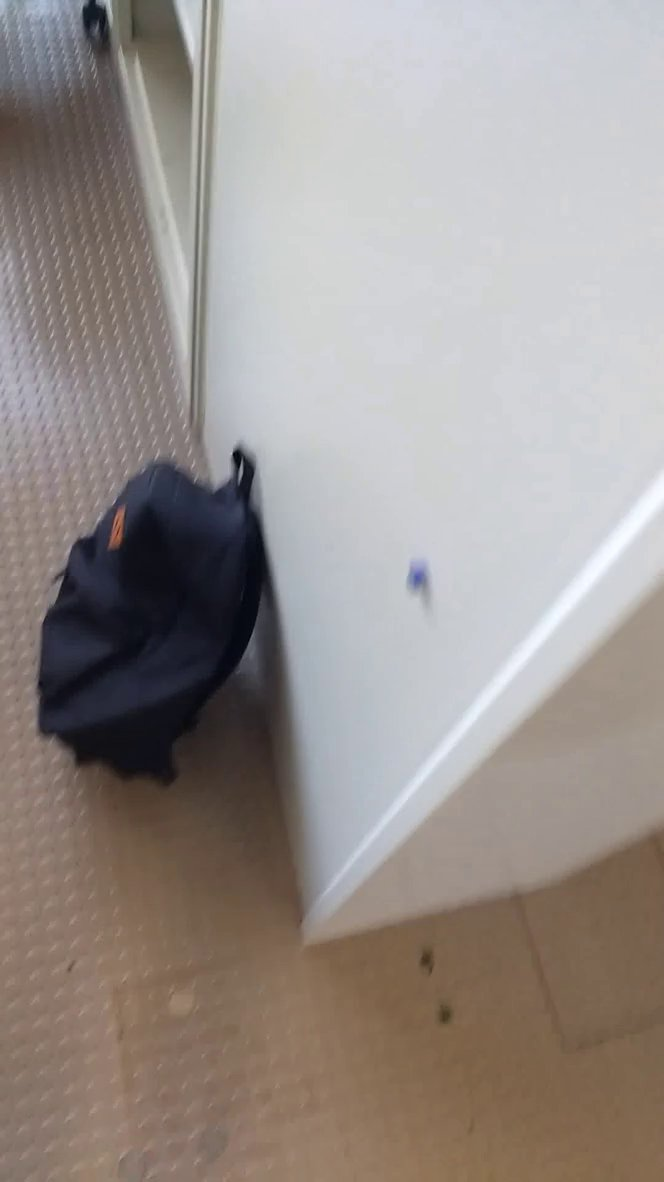bag: (19, 431, 276, 794)
